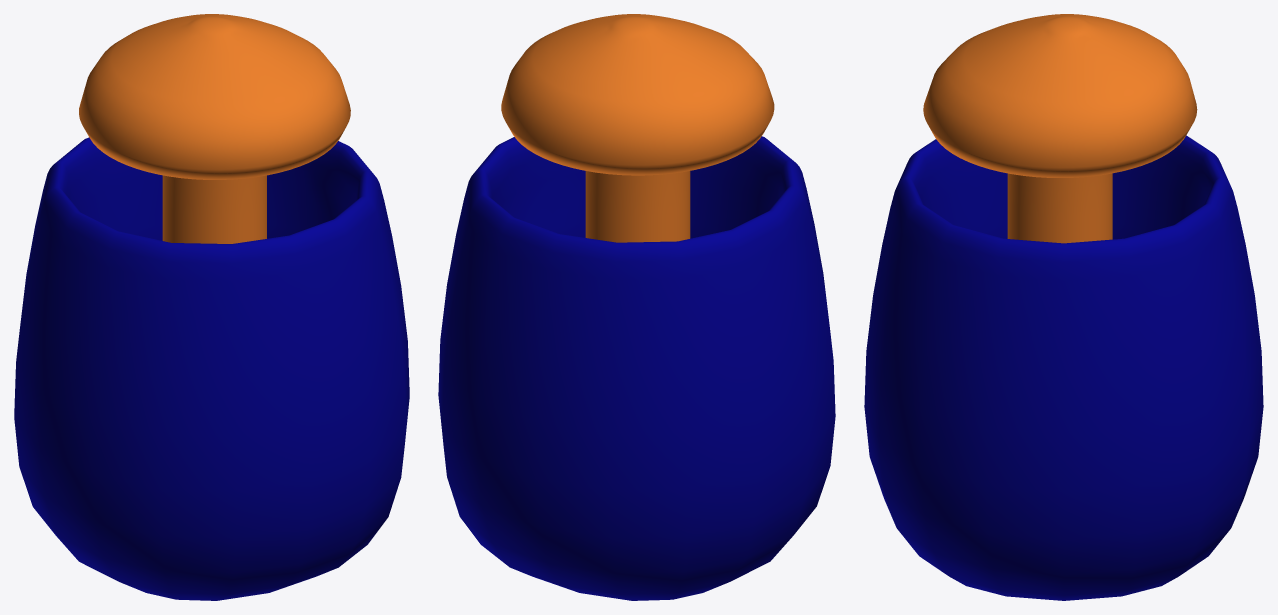
File: VaseBlue.glb
3 views of the same model, side by side, from view 1: azimuth 30°, elevation 25°; view 2: azimuth 150°, elevation 25°; view 3: azimuth 270°, elevation 25° (orthographic).
Parts seen in each view (by area): view 1: VaseBlue; view 2: VaseBlue; view 3: VaseBlue.
Boxes of the visible parts, box(x1,y1,x2,y2) form: VaseBlue: box(14, 14, 409, 600); VaseBlue: box(438, 14, 835, 600); VaseBlue: box(864, 14, 1263, 600).
Size of the model in its own units: 0.3982 by 0.6017 by 0.3982.
